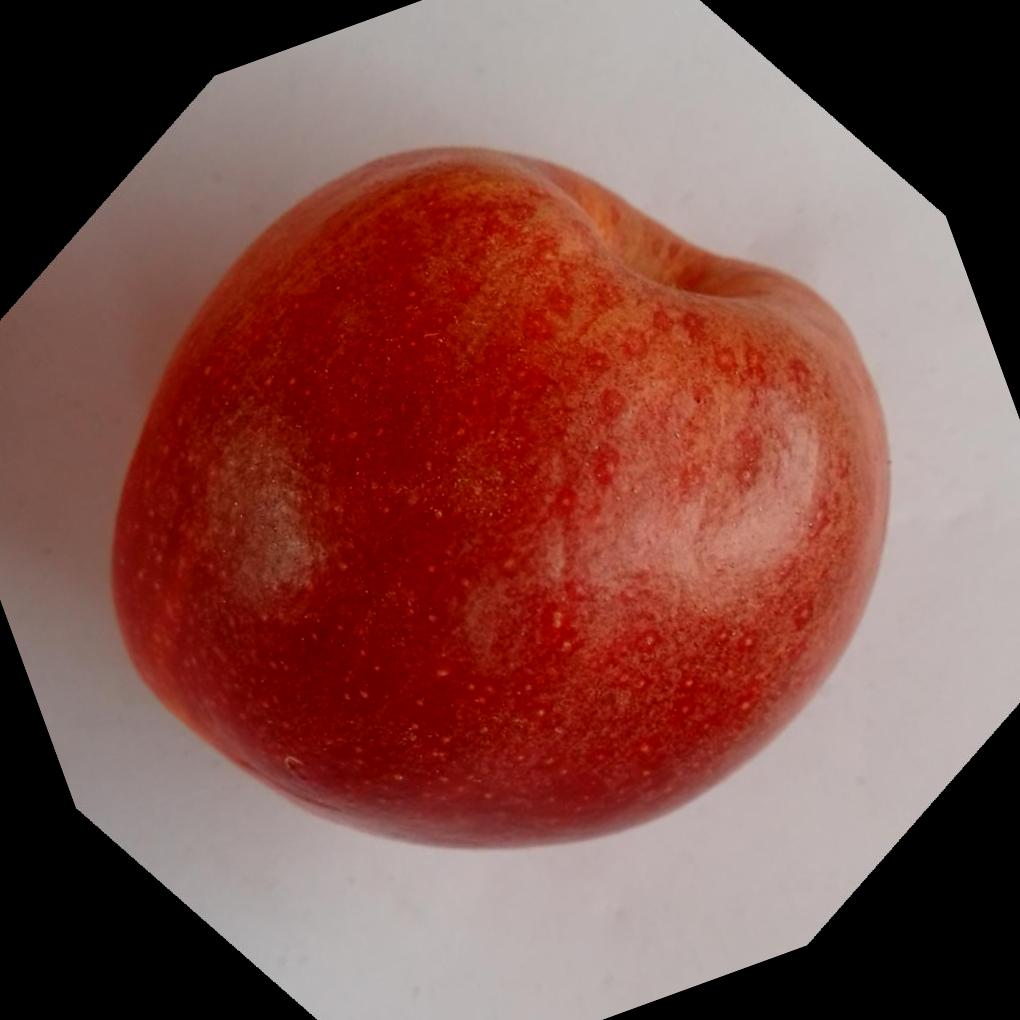FreshGuava: (106, 145, 893, 857)
